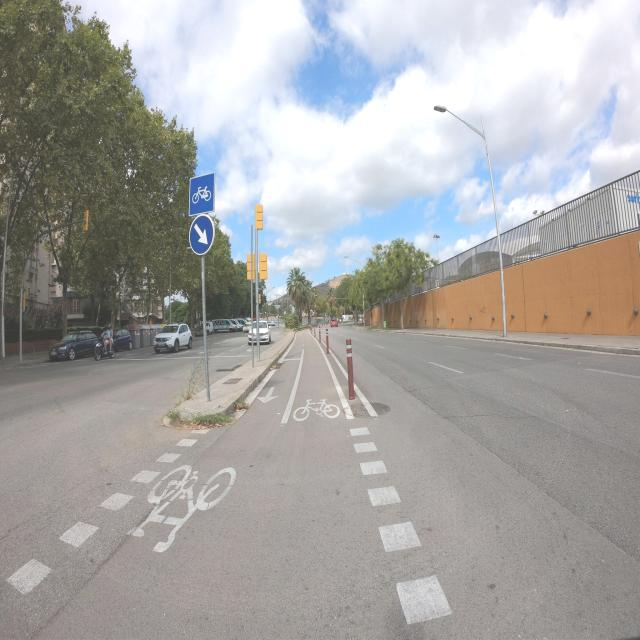car: (48, 331, 102, 362), (153, 323, 193, 354), (91, 327, 115, 358), (110, 328, 134, 351), (248, 320, 270, 345), (212, 319, 228, 333), (242, 318, 252, 332), (193, 322, 203, 336), (230, 319, 239, 331), (330, 318, 338, 327)
